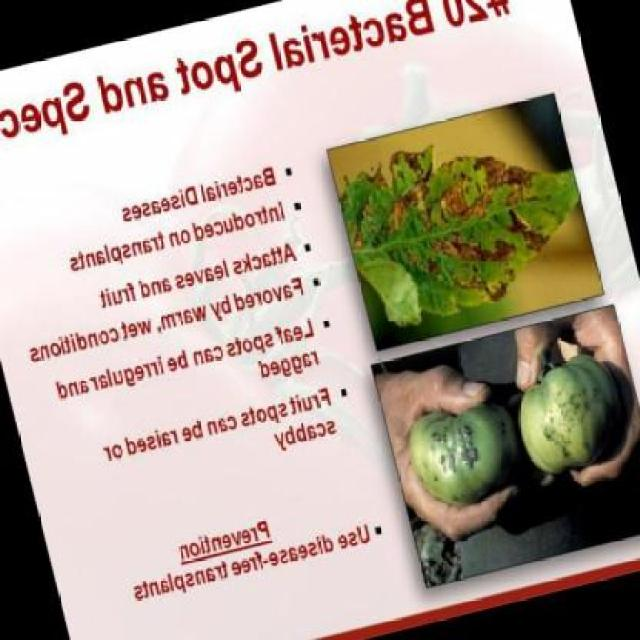Tomato leaf bacterial spot: (331, 110, 600, 338)
